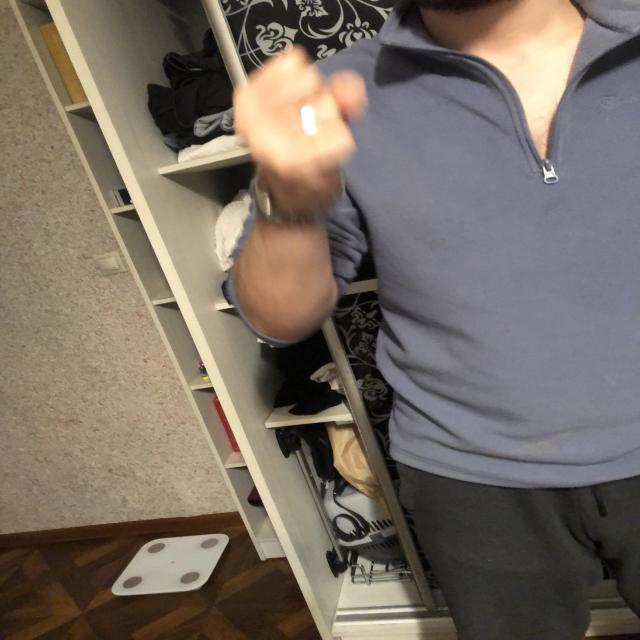rock: (231, 46, 369, 176)
